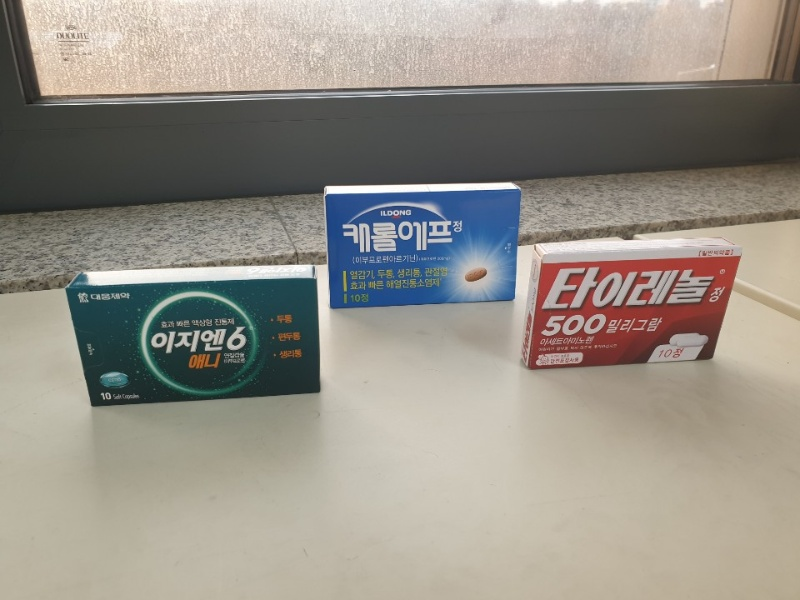carolF: (325, 182, 522, 309)
ezn: (69, 268, 320, 405)
tylenol: (524, 238, 741, 373)
